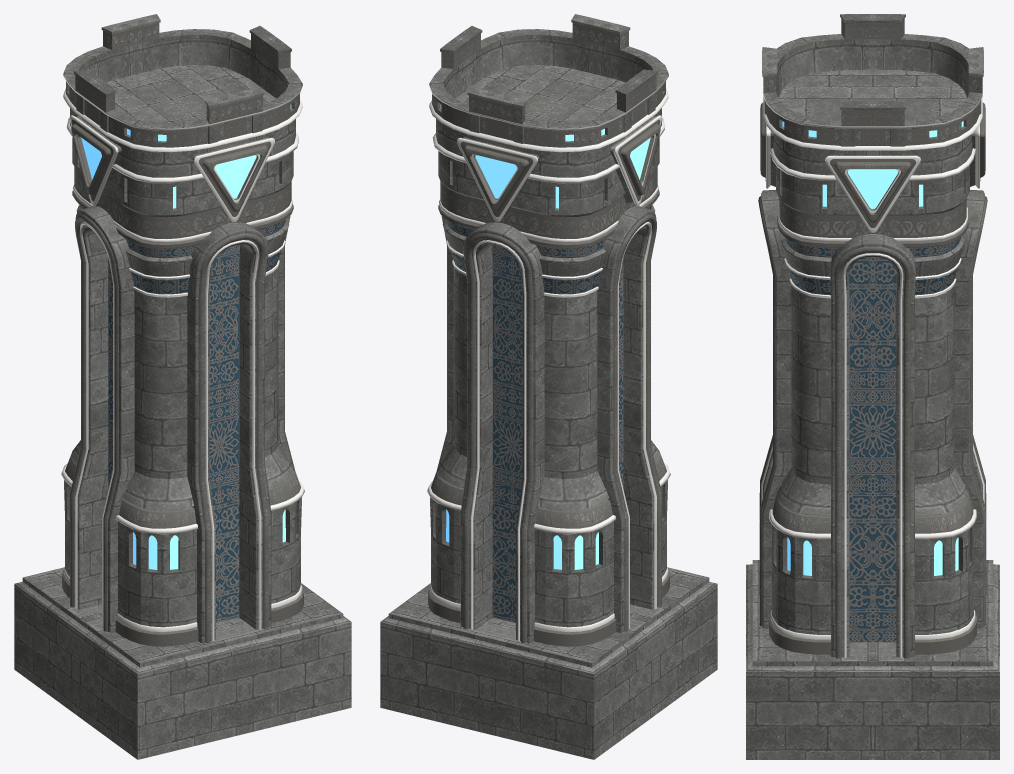
File: waterTower.glb
3 renders of one model, left to right at view 1: azimuth 30°, elevation 25°; view 2: azimuth 150°, elevation 25°; view 3: azimuth 270°, elevation 25°, orthographic. The views are drawn at different scales.
Parts seen in each view (by area): view 1: WaterTower_Level3; view 2: WaterTower_Level3; view 3: WaterTower_Level3.
Boxes of the visible parts, x1=… form: WaterTower_Level3: x1=14, y1=14, x2=351, y2=759; WaterTower_Level3: x1=380, y1=14, x2=717, y2=759; WaterTower_Level3: x1=746, y1=14, x2=999, y2=759.
Size of the model in its own units: 8.8 by 24.69 by 8.8.
Materials: 1 (1 with a texture image).
